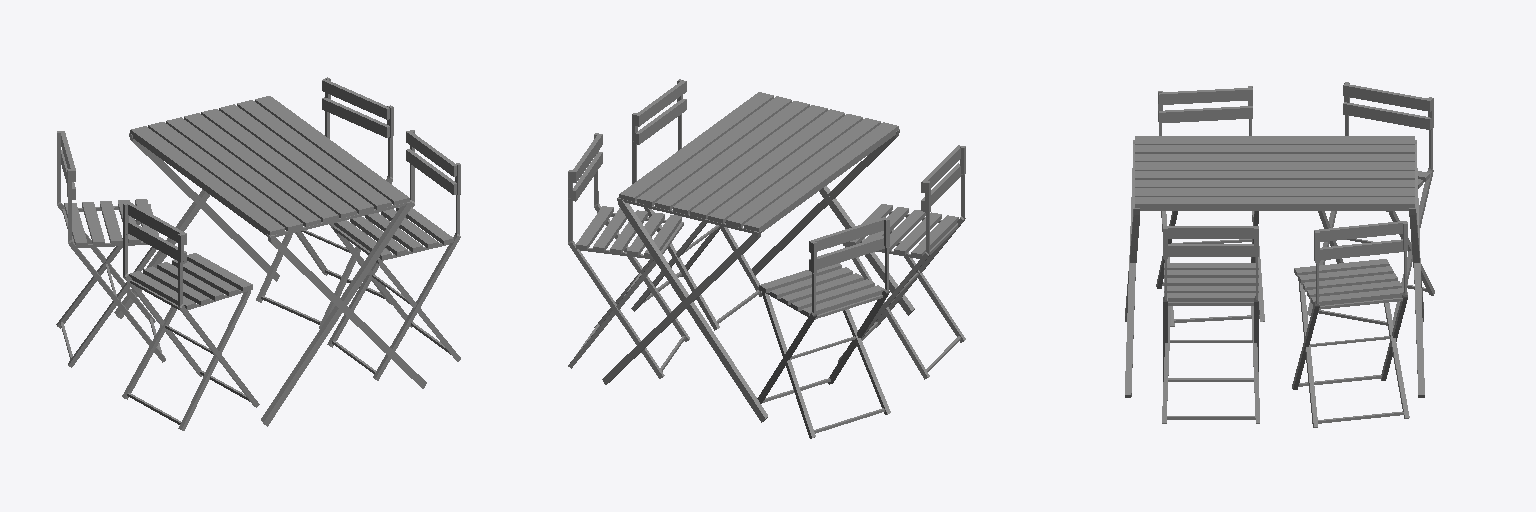
The model's file is Mesas.obj.
The picture shows the model from 3 angles: view 1: azimuth 30°, elevation 25°; view 2: azimuth 150°, elevation 25°; view 3: azimuth 270°, elevation 25°; orthographic projection.
Visible parts, largest first — view 1: Table; view 2: Table; view 3: Table.
Boxes of the visible parts, <box> form: Table: <box>56,77,460,430</box>; Table: <box>568,79,965,438</box>; Table: <box>1125,82,1434,427</box>.
Bounding box in the file's own units: 71.36 × 43.15 × 61.71.